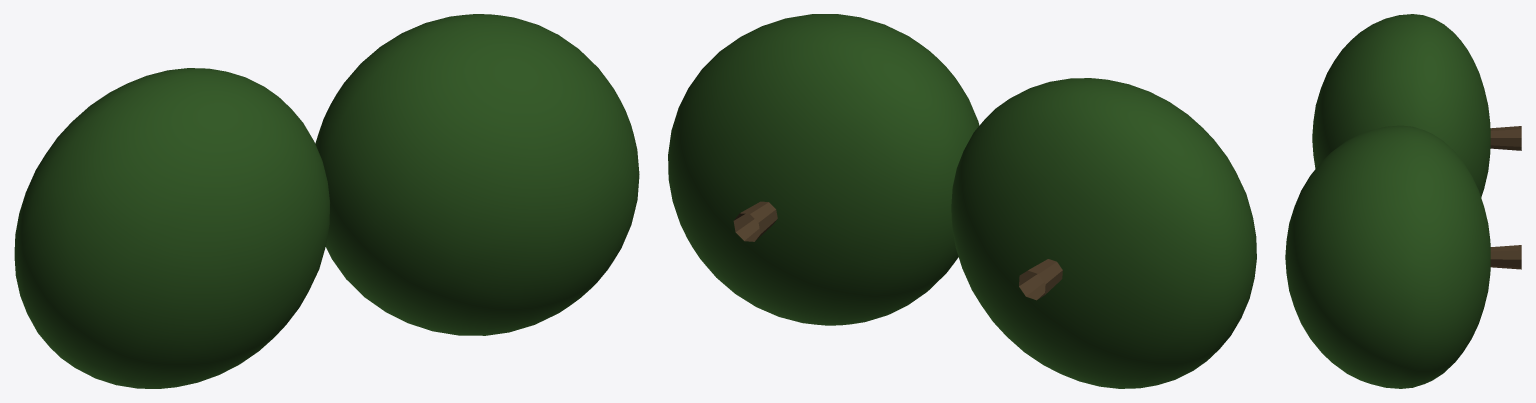
The model's file is citrus_plain2_f.obj.
3 renders of one model, left to right at view 1: azimuth 30°, elevation 25°; view 2: azimuth 150°, elevation 25°; view 3: azimuth 270°, elevation 25°, orthographic. The views are drawn at different scales.
Parts seen in each view (by area): view 1: canopy; view 2: canopy, trunk; view 3: canopy, trunk.
Part boxes in pixels (x1,y1,x2,y2): canopy: (14,14,639,388); canopy: (668,14,1256,388); trunk: (733,201,1062,300); canopy: (1285,14,1490,388); trunk: (1490,126,1521,269).
Bounding box in the file's own units: 6.02 × 3.04 × 2.74.
